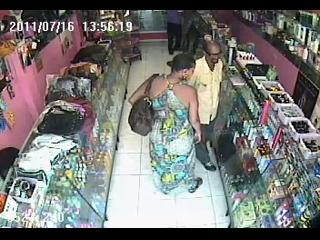Normal: (128, 54, 203, 198), (188, 39, 224, 172), (128, 88, 157, 136), (164, 10, 184, 55)
